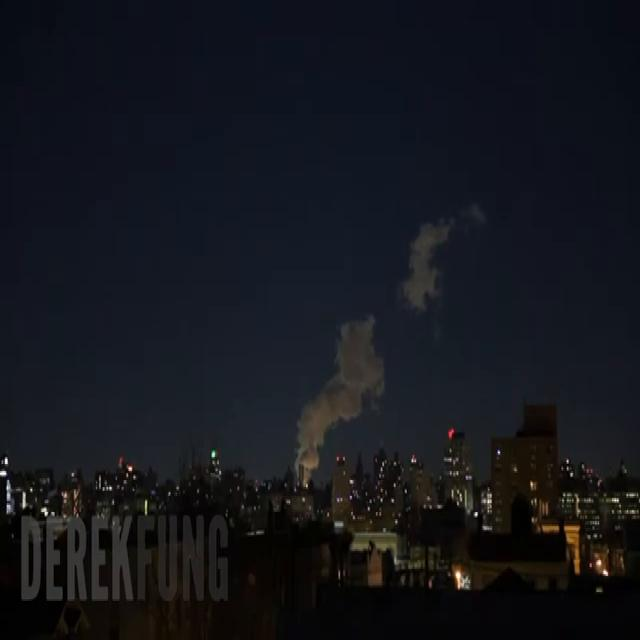smoke: (295, 316, 383, 484)
